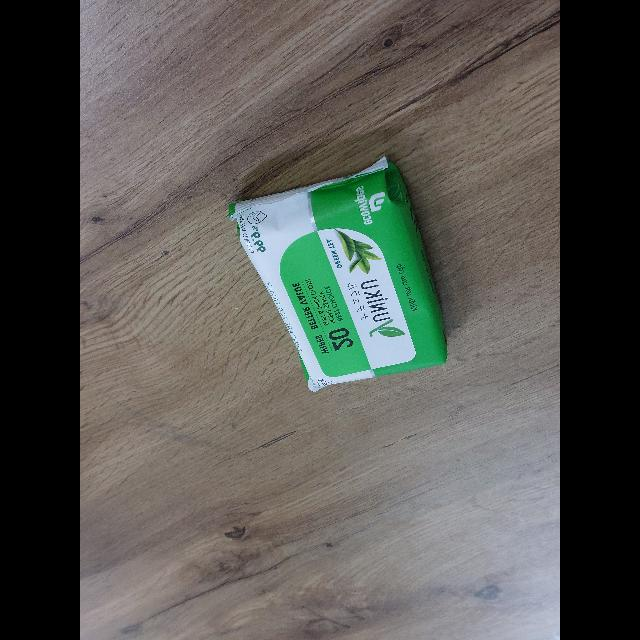khan_giay: (226, 154, 447, 390)
